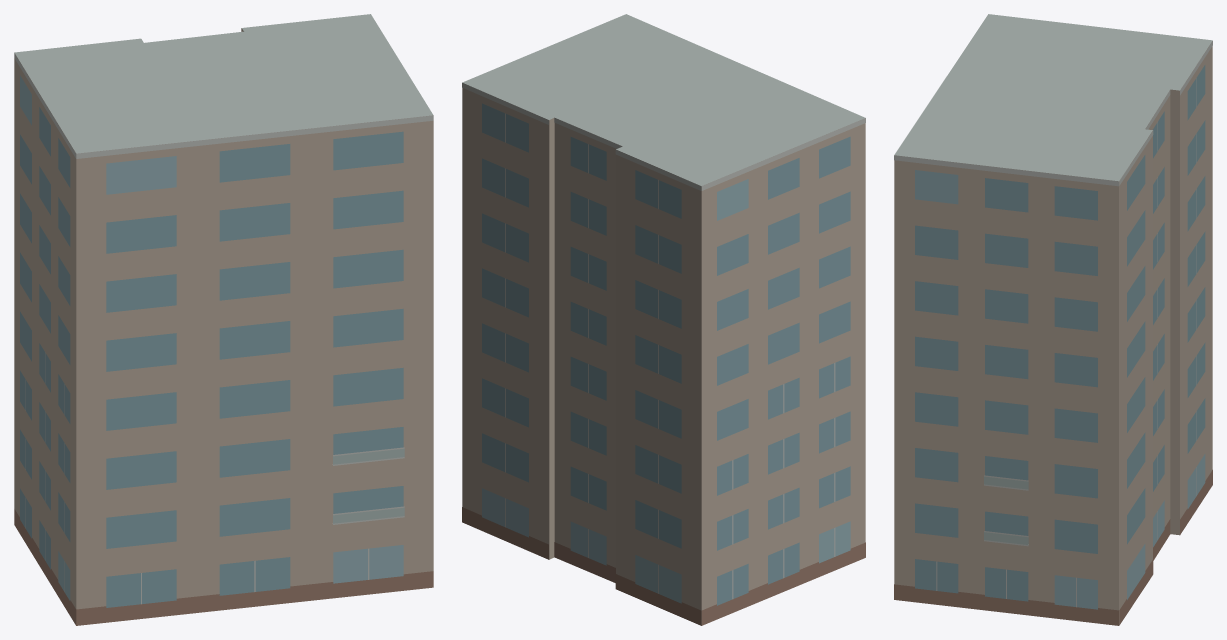
File: survey-upis-32872843.glb
The picture shows the model from 3 angles, left to right: view 1: azimuth 30°, elevation 25°; view 2: azimuth 150°, elevation 25°; view 3: azimuth 270°, elevation 25°; orthographic projection. The views are drawn at different scales.
Visible parts, largest first — view 1: survey-upis-32872843.tmp; view 2: survey-upis-32872843.tmp; view 3: survey-upis-32872843.tmp.
Part boxes in pixels (x1,y1,x2,y2): survey-upis-32872843.tmp: (14, 14, 433, 625); survey-upis-32872843.tmp: (462, 14, 865, 625); survey-upis-32872843.tmp: (894, 14, 1212, 625).
Size of the model in its own units: 17.23 by 21.35 by 13.88.
